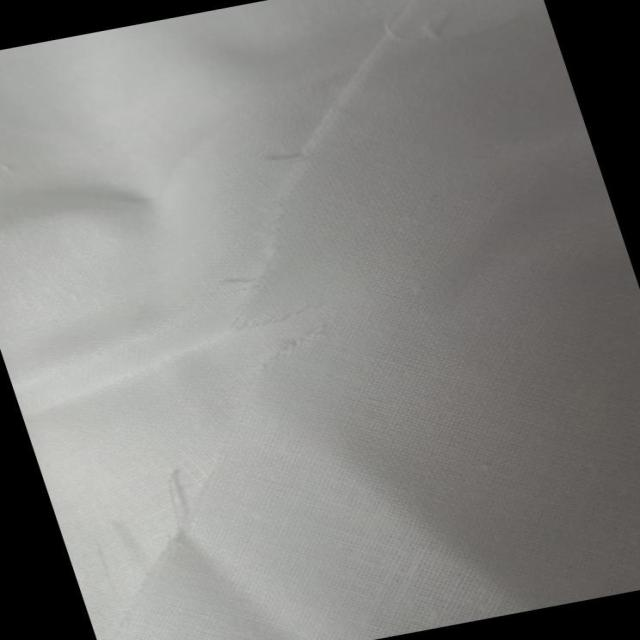cut: (212, 294, 354, 368)
